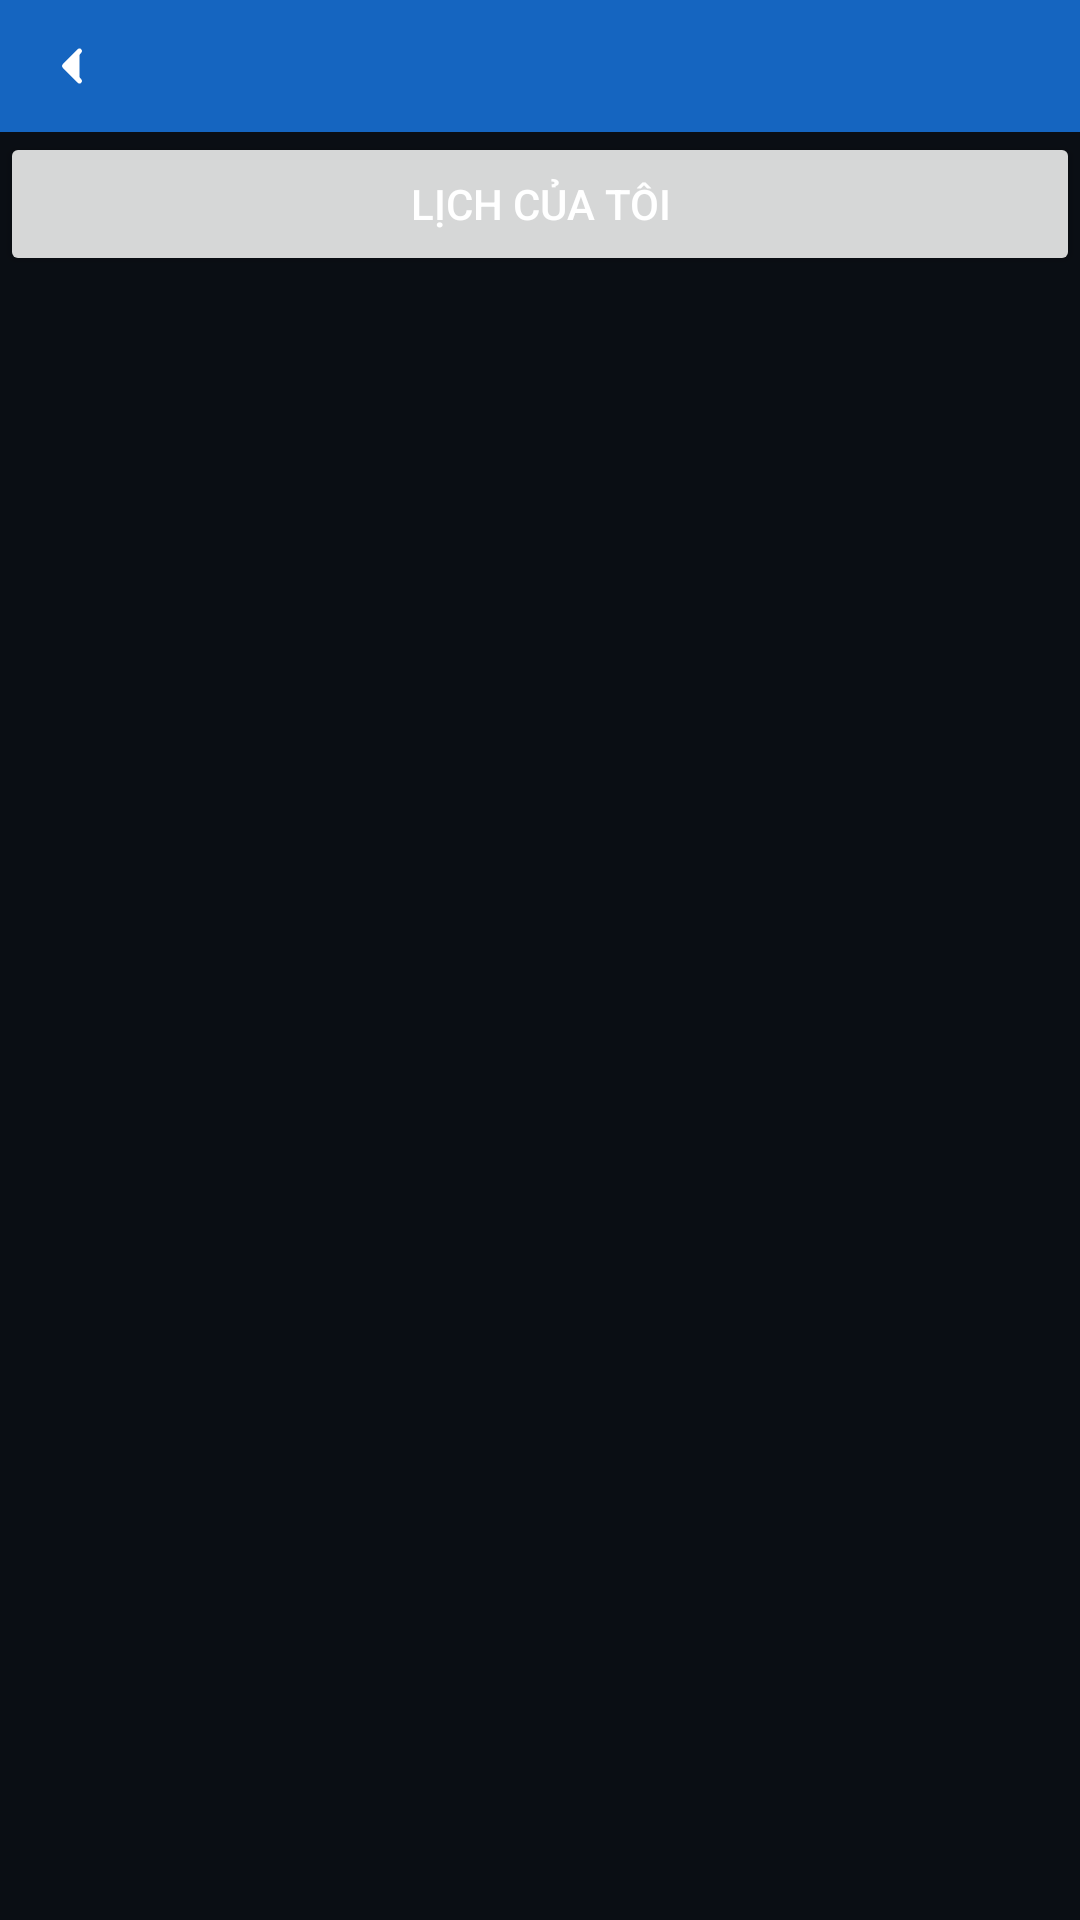

Icon bounding boxes for this 1080 x 1920 phone screenshot, format rect(x1, y1, x2, y2):
Quay lại: rect(62, 48, 82, 84)
